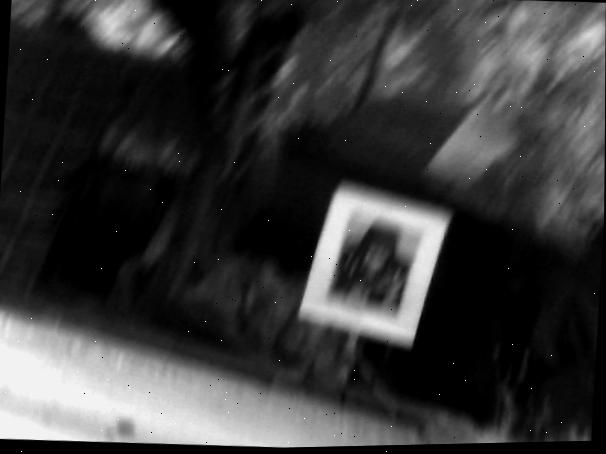bia: (325, 209, 424, 321)
chan: (261, 332, 397, 454)
